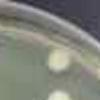yellow: (41, 43, 74, 73), (44, 85, 72, 100)
